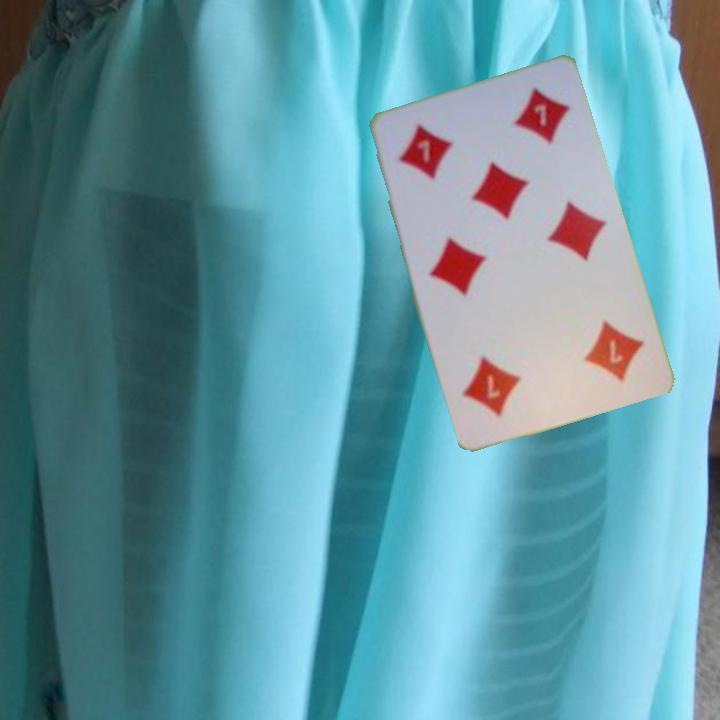d_7.png: (378, 101, 497, 211), (538, 298, 657, 408)
